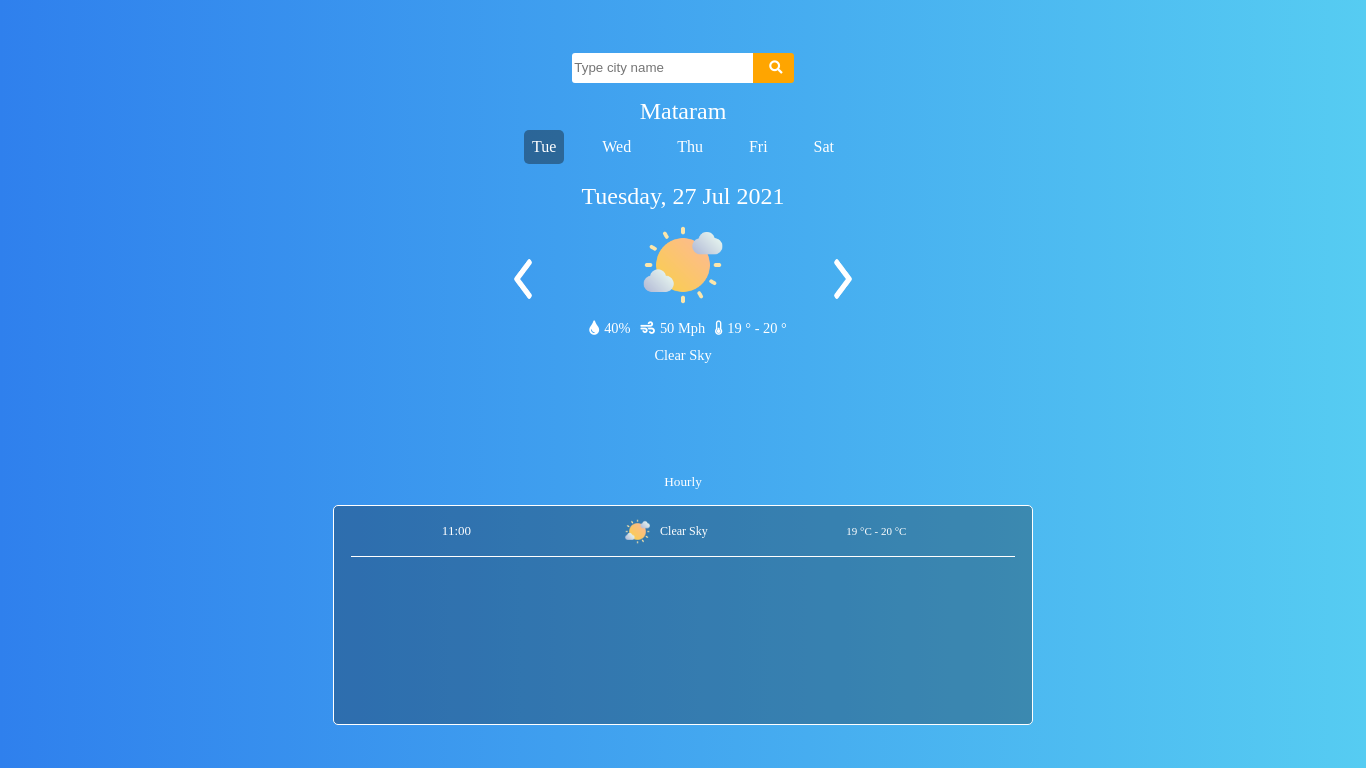
should render the next day weather details when next arrow is clicked
Check: the heading with test id "city-name" reads "mataram", box [640, 98, 726, 124]
Check: the text "Tue" is shown, box [524, 130, 564, 164]
Step 1. Click the picture with test id "next-arrow" → (843, 279), box [828, 259, 858, 299]
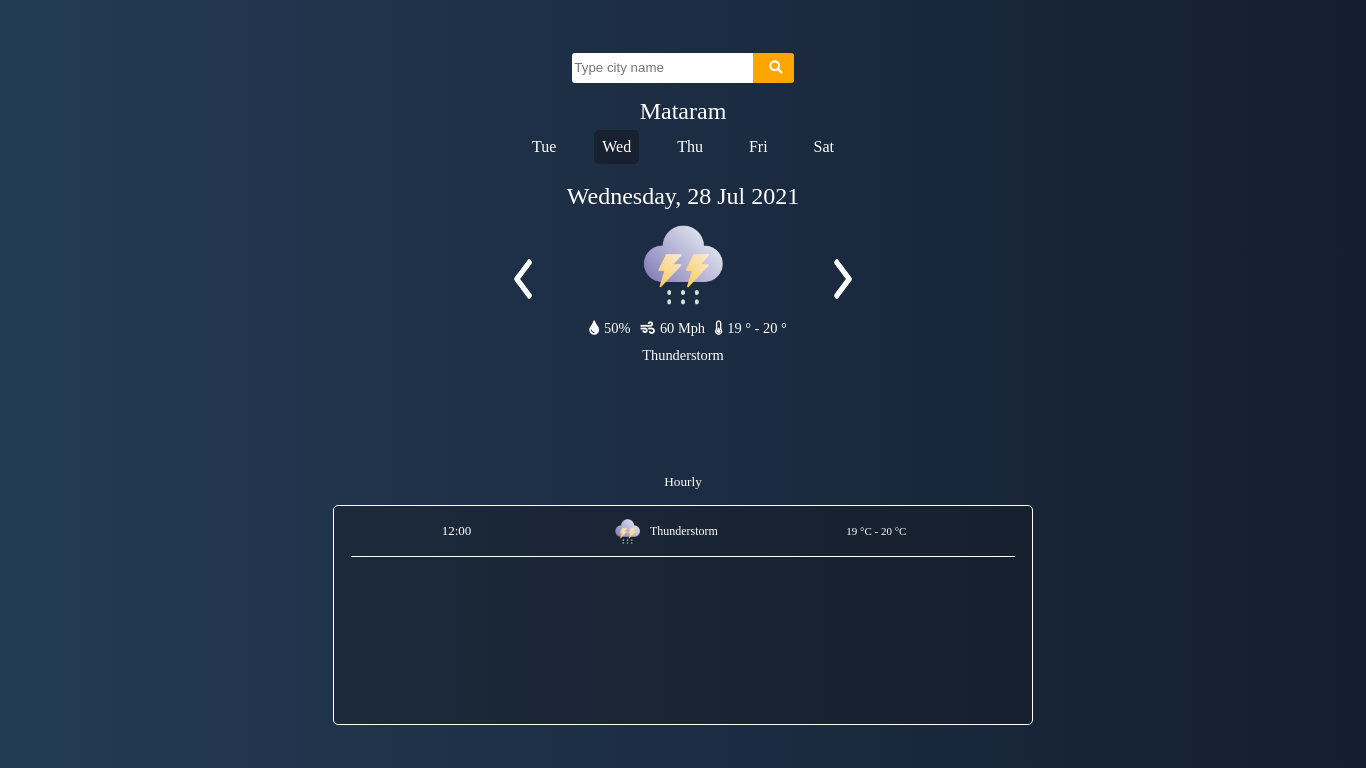
Check: the text "Tue" is shown, box [532, 138, 556, 155]
Check: the text "Wed" is shown, box [594, 130, 639, 164]
Check: the heading "50% 60 mph 19 ° - 20 °" is shown, box [579, 320, 787, 337]
Step 2. Click the picture with test id "next-arrow" → (843, 279), box [828, 259, 858, 299]
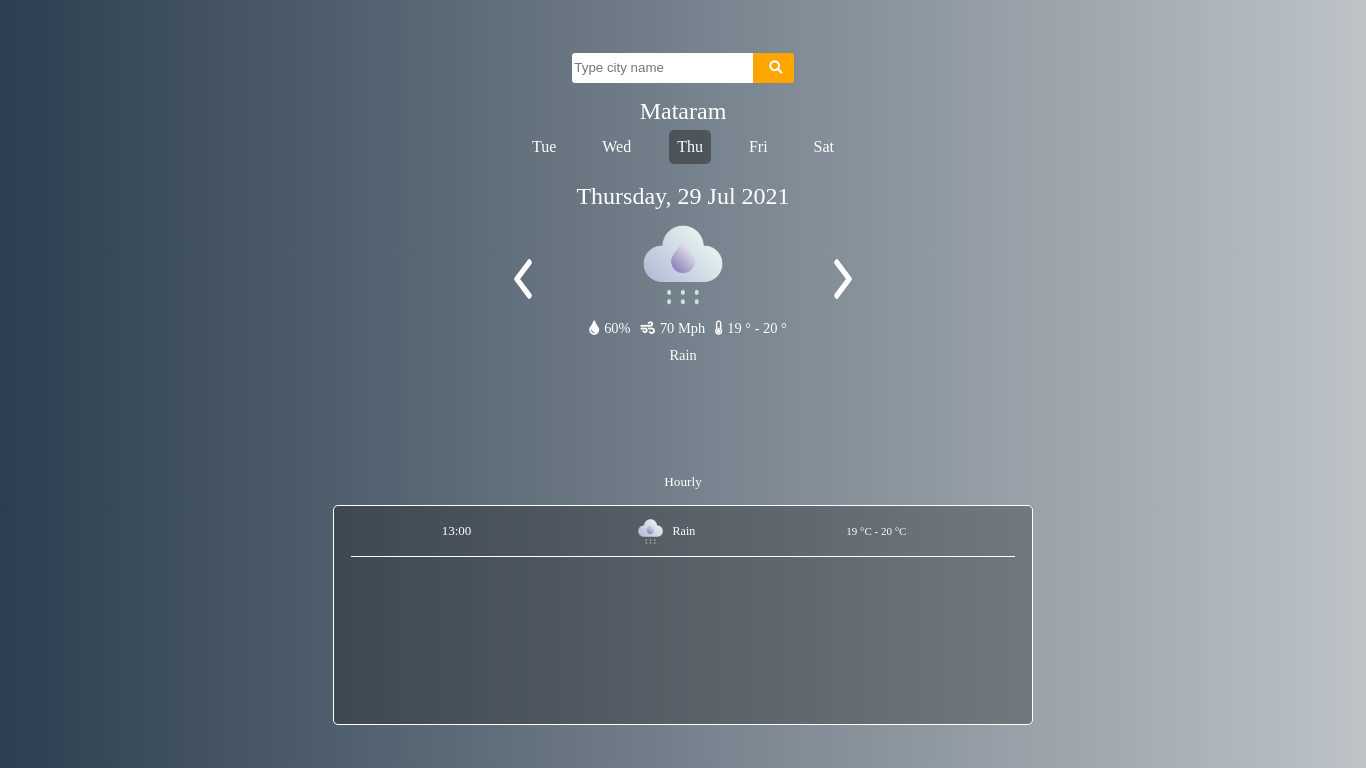
Check: the text "Tue" is shown, box [532, 138, 556, 155]
Check: the text "Wed" is shown, box [602, 138, 631, 155]
Check: the text "Thu" is shown, box [669, 130, 711, 164]
Step 3. Click the picture with test id "next-arrow" → (843, 279), box [828, 259, 858, 299]
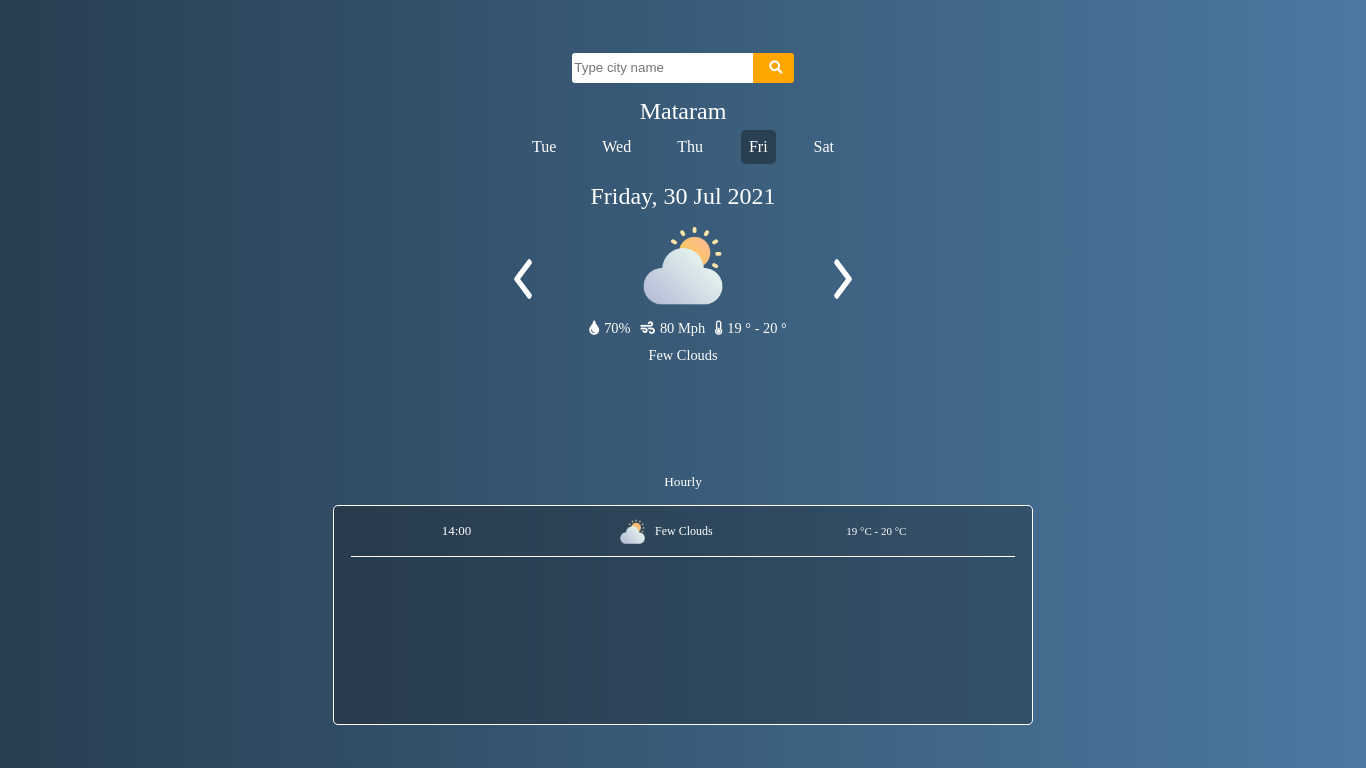
Check: the text "Tue" is shown, box [532, 138, 556, 155]
Check: the text "Wed" is shown, box [602, 138, 631, 155]
Check: the text "Thu" is shown, box [677, 138, 703, 155]
Step 4. Click the picture with test id "next-arrow" → (843, 279), box [828, 259, 858, 299]
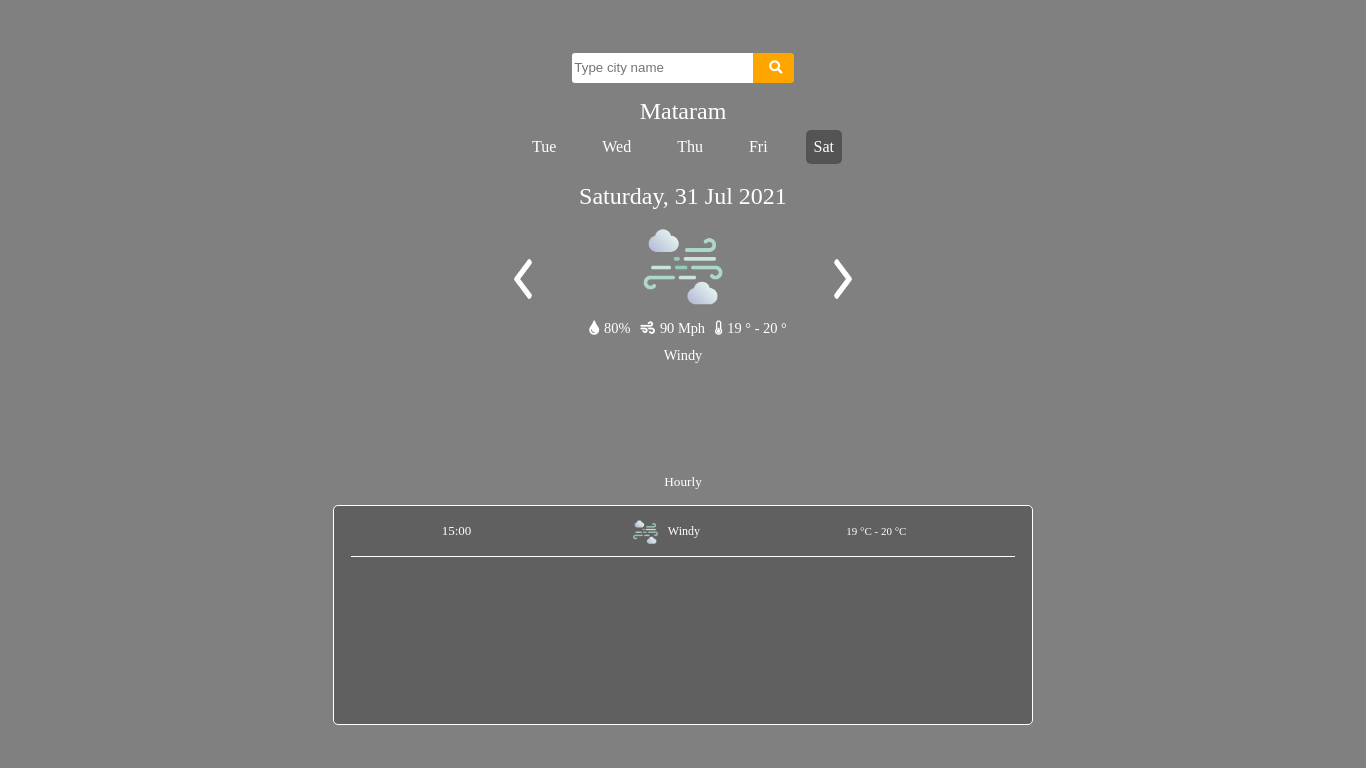
Check: the text "Tue" is shown, box [532, 138, 556, 155]
Check: the text "Wed" is shown, box [602, 138, 631, 155]
Check: the text "Thu" is shown, box [677, 138, 703, 155]
Step 5. Click the picture with test id "next-arrow" → (843, 279), box [828, 259, 858, 299]
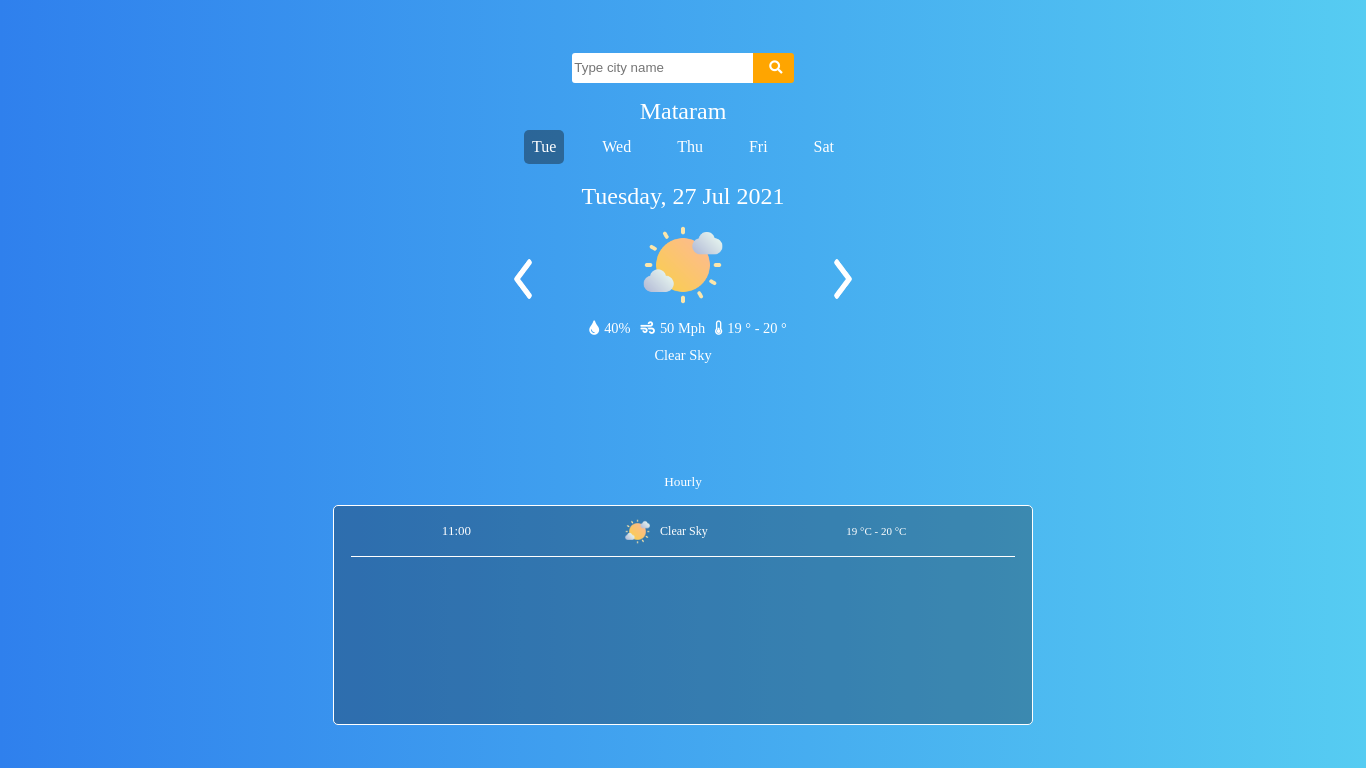
Check: the text "Tue" is shown, box [524, 130, 564, 164]
Check: the text "Wed" is shown, box [602, 138, 631, 155]
Check: the text "Thu" is shown, box [677, 138, 703, 155]
